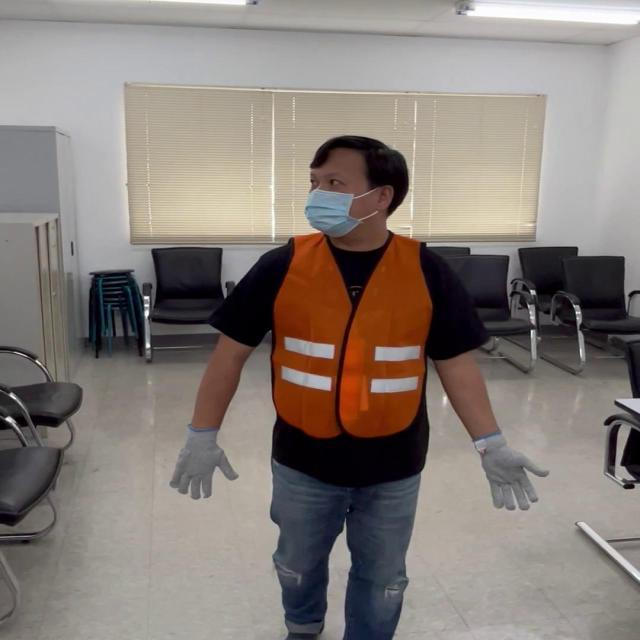gloved_hand: (467, 434, 543, 512), (174, 424, 245, 498)
